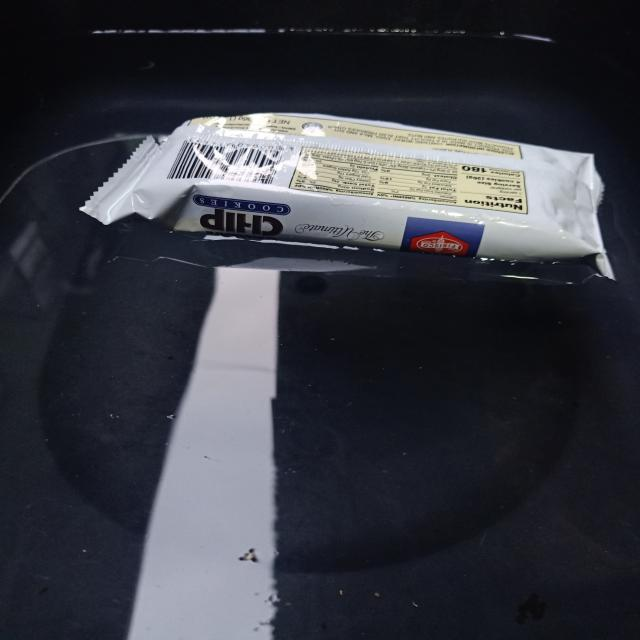Plastic Wrapper: (66, 98, 625, 294)
